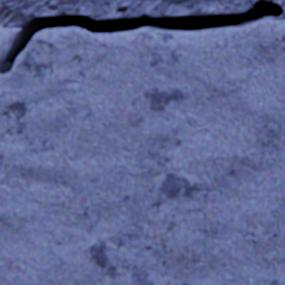broken_brick: (0, 20, 284, 284)
crack: (2, 0, 283, 73)
